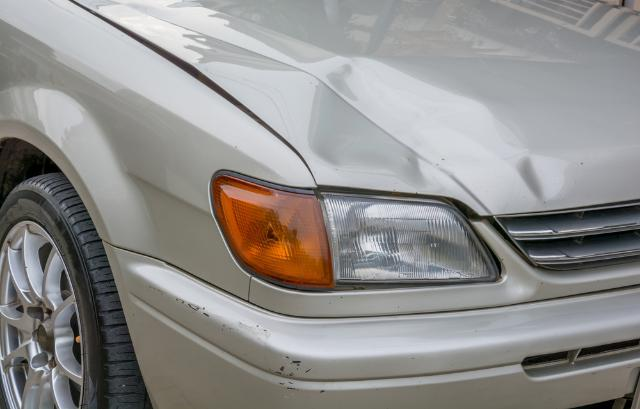dent: (305, 55, 570, 214)
lamp broken: (213, 174, 334, 290)
scratch: (165, 292, 328, 398)
